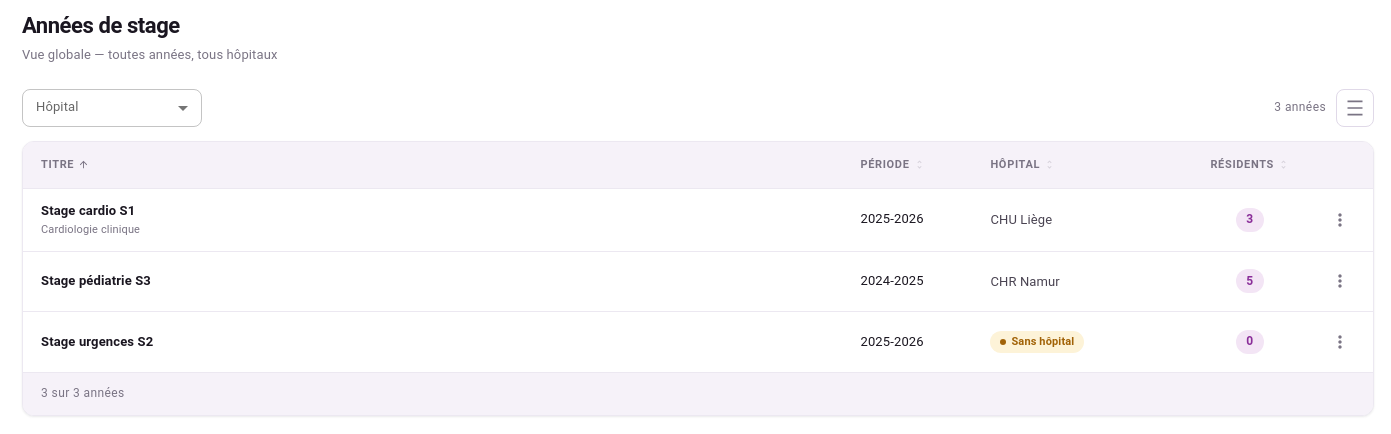
Scenario: AdminYearsPage › filtre par hôpital via le Select
expect the text "Stage cardio S1" is shown: met, box [41, 202, 135, 218]
Press the mouse on the dropdown at [112, 108], box [22, 90, 202, 125]
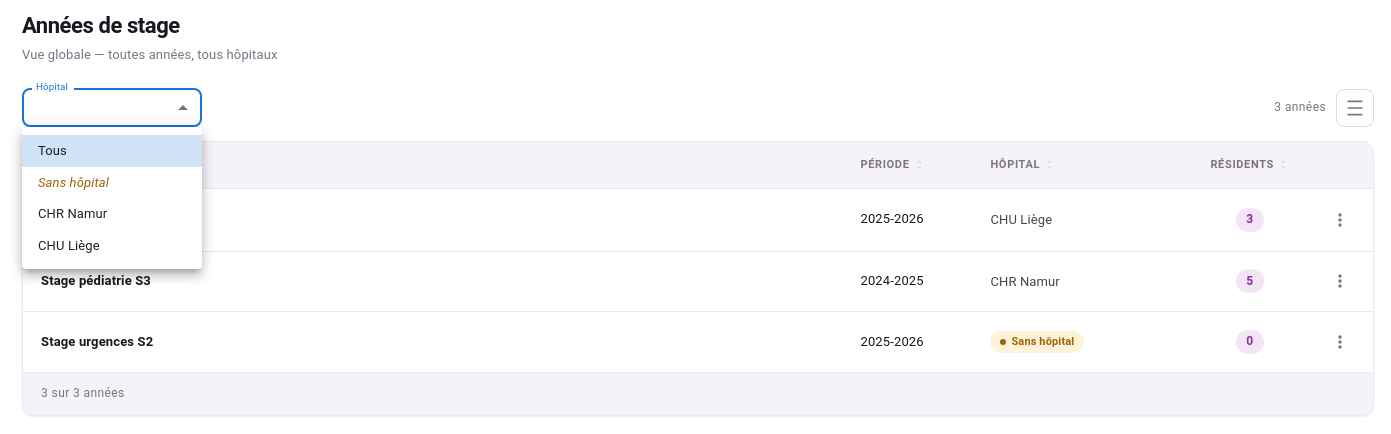
expect the option "CHR Namur" is shown: met
Click the option "CHR Namur" at [73, 214], box [38, 206, 107, 221]
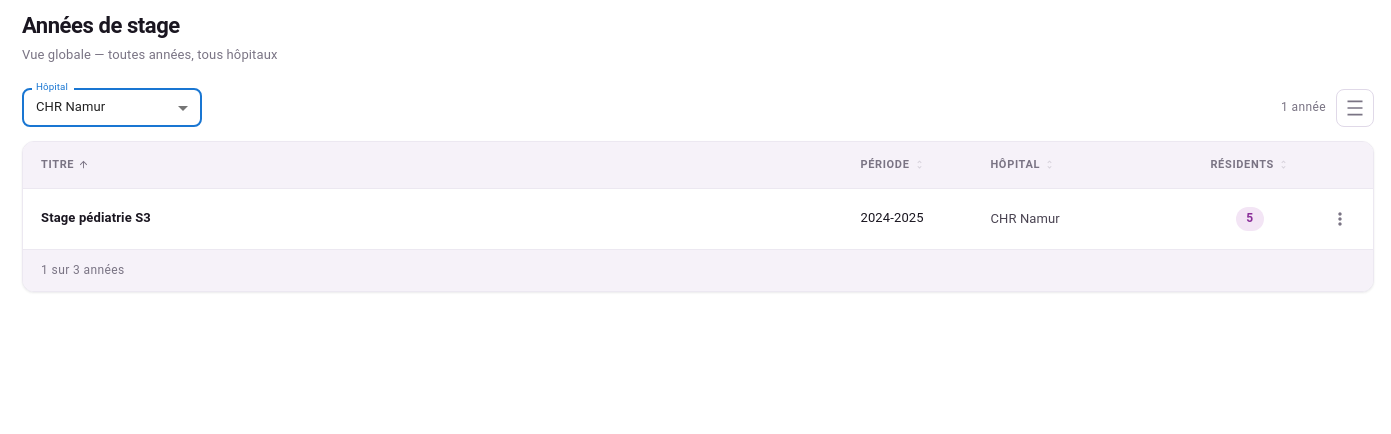
expect the text "Stage pédiatrie S3" is shown: met, box [41, 210, 151, 225]
expect the text "Stage cardio S1" is gone: met
expect the text "Stage urgences S2" is gone: met
